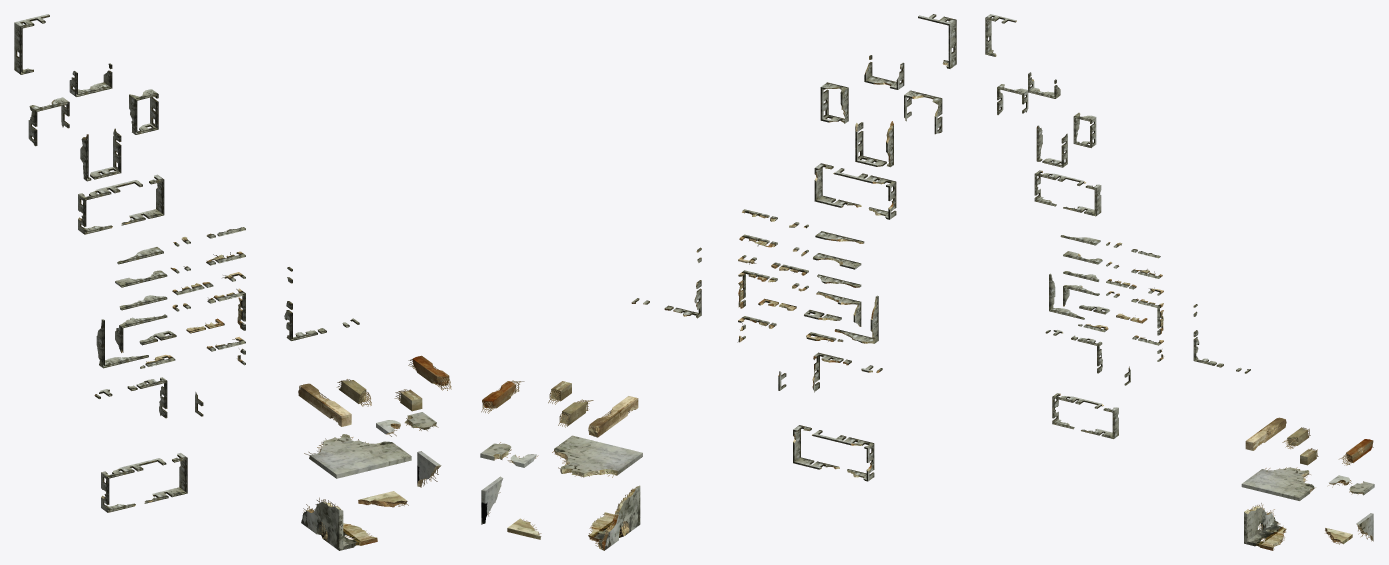
File: Wall.fbx
3 views of the same model, side by side, from view 1: azimuth 30°, elevation 25°; view 2: azimuth 150°, elevation 25°; view 3: azimuth 330°, elevation 25° (orthographic). The views are drawn at different scales.
Parts seen in each view (by area): view 1: broken_concrete_wall_001.001, broken_concrete_wall_cornor_001.001, polySurface982, polySurface1082, broken_concrete_pillar_001.002, polySurface1011, polySurface1025, polySurface1076, broken_concrete_pillar_003.001, polySurface1072, polySurface867, polySurface1045 (+4 smaller); view 2: broken_concrete_wall_001.001, broken_concrete_wall_cornor_001.001, polySurface982, polySurface1082, broken_concrete_pillar_001.002, polySurface1011, polySurface1025, polySurface1076, broken_concrete_pillar_003.001, polySurface1072; view 3: broken_concrete_wall_001.001, broken_concrete_wall_cornor_001.001, polySurface982, polySurface1082, broken_concrete_pillar_001.002, polySurface1011, polySurface1025.
Part boxes in pixels (left/top/right/bottom): broken_concrete_wall_001.001: left=304, top=434, right=411, bottom=478; broken_concrete_wall_cornor_001.001: left=301, top=497, right=377, bottom=550; polySurface982: left=78, top=174, right=164, bottom=234; polySurface1082: left=101, top=453, right=187, bottom=512; broken_concrete_pillar_001.002: left=298, top=383, right=351, bottom=426; polySurface1011: left=80, top=128, right=121, bottom=181; polySurface1025: left=129, top=89, right=158, bottom=134; polySurface1076: left=14, top=14, right=49, bottom=74; broken_concrete_pillar_003.001: left=408, top=355, right=451, bottom=390; polySurface1072: left=28, top=97, right=69, bottom=146; polySurface867: left=96, top=319, right=148, bottom=368; polySurface1045: left=69, top=63, right=112, bottom=96; broken_concrete_wall_001.001: left=552, top=435, right=642, bottom=477; broken_concrete_wall_cornor_001.001: left=588, top=485, right=640, bottom=550; polySurface982: left=814, top=163, right=896, bottom=219; polySurface1082: left=793, top=425, right=874, bottom=481; broken_concrete_pillar_001.002: left=588, top=396, right=638, bottom=437; polySurface1011: left=855, top=121, right=893, bottom=167; polySurface1025: left=820, top=82, right=848, bottom=123; polySurface1076: left=918, top=14, right=956, bottom=68; broken_concrete_pillar_003.001: left=481, top=380, right=524, bottom=413; polySurface1072: left=904, top=90, right=942, bottom=134; broken_concrete_wall_001.001: left=1241, top=467, right=1315, bottom=500; broken_concrete_wall_cornor_001.001: left=1244, top=503, right=1286, bottom=550; polySurface982: left=1034, top=170, right=1101, bottom=216; polySurface1082: left=1052, top=393, right=1118, bottom=438; broken_concrete_pillar_001.002: left=1245, top=417, right=1286, bottom=450; polySurface1011: left=1036, top=125, right=1067, bottom=167; polySurface1025: left=1073, top=112, right=1096, bottom=147.
Bounding box in the file's own units: 8022 × 10310 × 1688.
